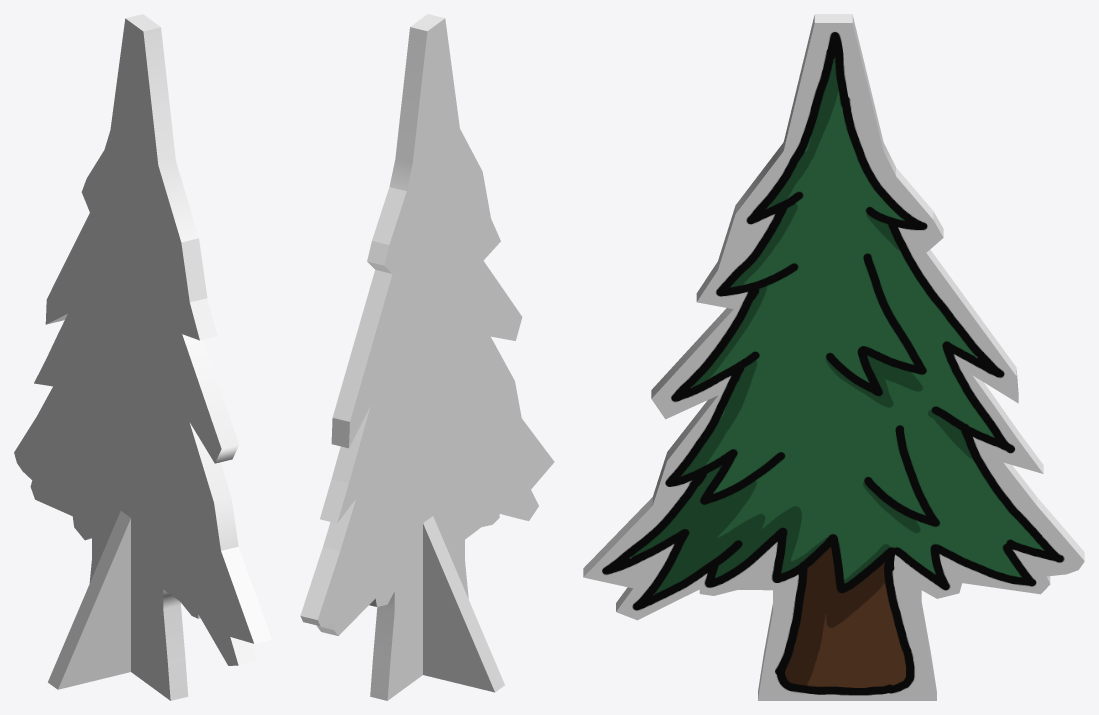
The model's file is pinetree.fbx.
The picture shows the model from 3 angles, left to right: view 1: azimuth 30°, elevation 25°; view 2: azimuth 150°, elevation 25°; view 3: azimuth 270°, elevation 25°; orthographic projection. The views are drawn at different scales.
Parts seen in each view (by area): view 1: pCube13, pCube35; view 2: pCube13, pCube35; view 3: pCube13.
Boxes of the visible parts, bbox=[...] form: pCube13: bbox=[14, 14, 271, 700]; pCube35: bbox=[48, 511, 130, 689]; pCube13: bbox=[300, 14, 554, 700]; pCube35: bbox=[423, 516, 504, 692]; pCube13: bbox=[583, 14, 1084, 700].
Bounding box in the file's own units: 2.57 × 17.59 × 11.79.
